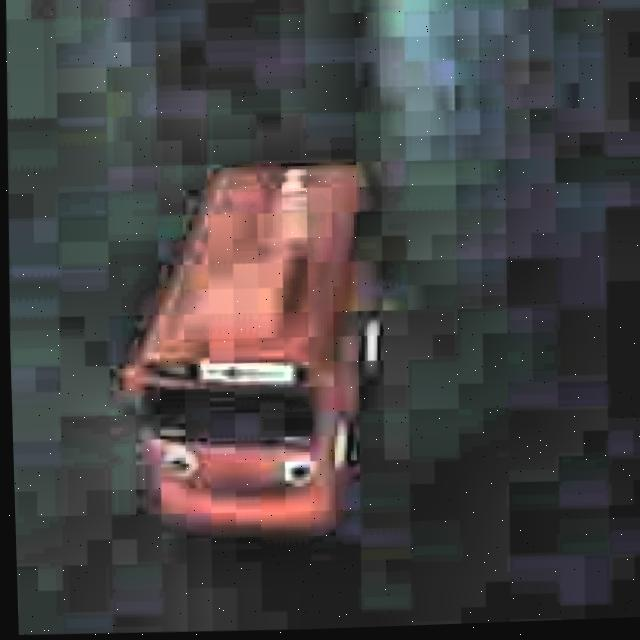bus: (101, 129, 408, 559)
